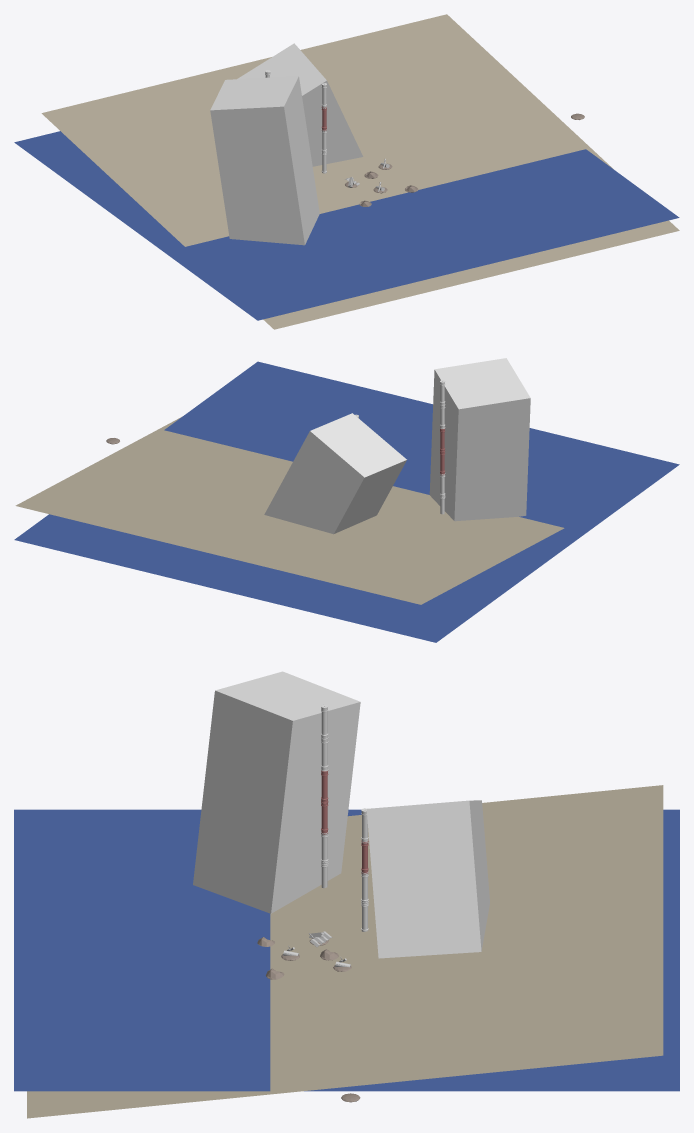
The model's file is adventure.fbx.
The picture shows the model from 3 angles, top to bottom: view 1: azimuth 30°, elevation 25°; view 2: azimuth 150°, elevation 25°; view 3: azimuth 270°, elevation 25°; orthographic projection. The views are drawn at different scales.
Visible parts, largest first — view 1: 평면, 평면.001, Cube.001, Cube; view 2: 평면.001, 평면, Cube.001, Cube; view 3: 평면, 평면.001, Cube.001, Cube.
Boxes of the visible parts, left/top/right/bottom form: 평면: left=41, top=14, right=679, bottom=329; 평면.001: left=14, top=131, right=679, bottom=320; Cube.001: left=210, top=76, right=319, bottom=245; Cube: left=237, top=43, right=363, bottom=166; 평면.001: left=14, top=361, right=679, bottom=642; 평면: left=15, top=416, right=564, bottom=604; Cube.001: left=429, top=358, right=530, bottom=521; Cube: left=264, top=413, right=406, bottom=534; 평면: left=27, top=785, right=663, bottom=1118; 평면.001: left=14, top=809, right=679, bottom=1091; Cube.001: left=193, top=671, right=360, bottom=913; Cube: left=366, top=800, right=489, bottom=958.
Bounding box in the file's own units: 2962 × 1207 × 2783.
